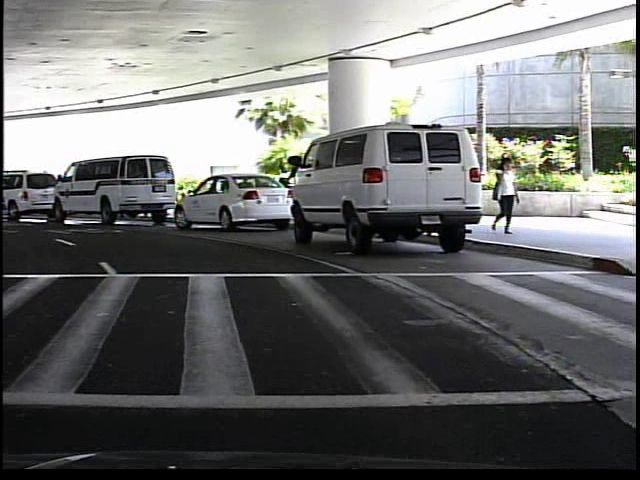person: (486, 151, 520, 237)
